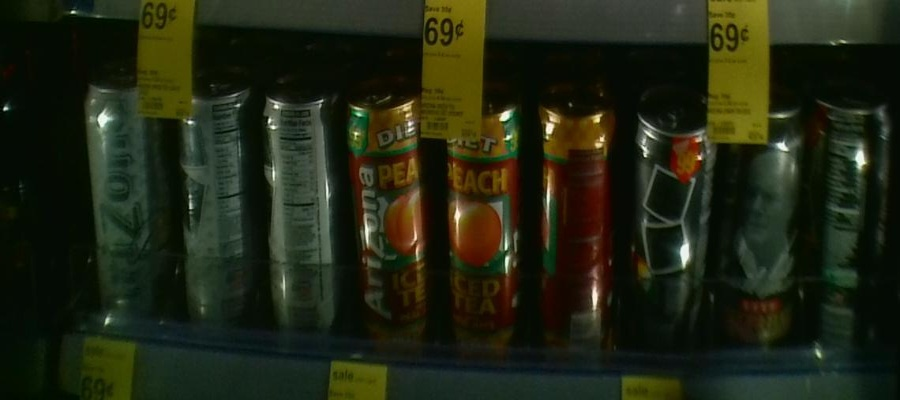bottle: (432, 65, 527, 351), (627, 75, 720, 363), (812, 78, 894, 362), (533, 71, 612, 364), (727, 75, 807, 364), (345, 65, 425, 353), (170, 56, 255, 327), (79, 56, 165, 322), (262, 74, 338, 332)
